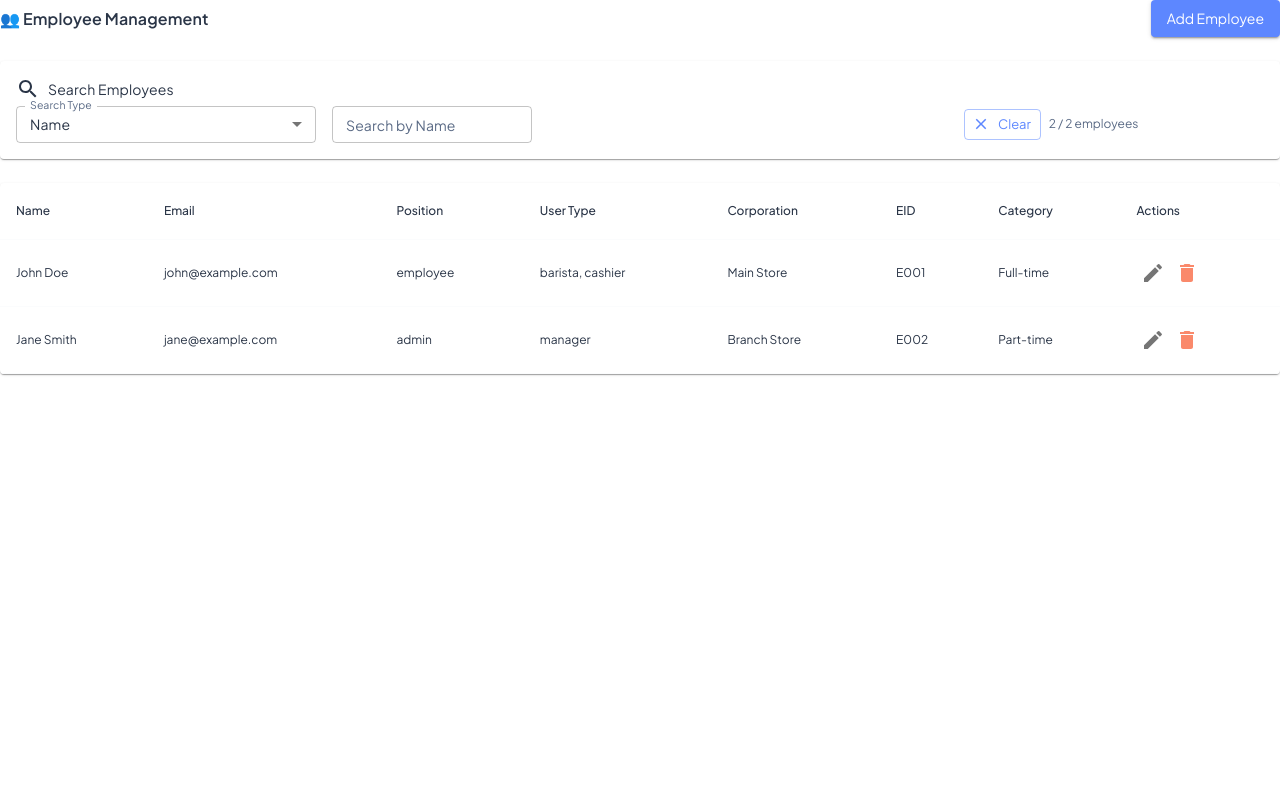
EmployeeManagement › Dialog Operations › opens edit dialog when edit button is clicked
Expected: the text "John Doe" is shown, [0, 240, 148, 306]
# Click edit button for first employee
Click the button with test id "EditIcon" at (1153, 273), box [1136, 256, 1170, 290]
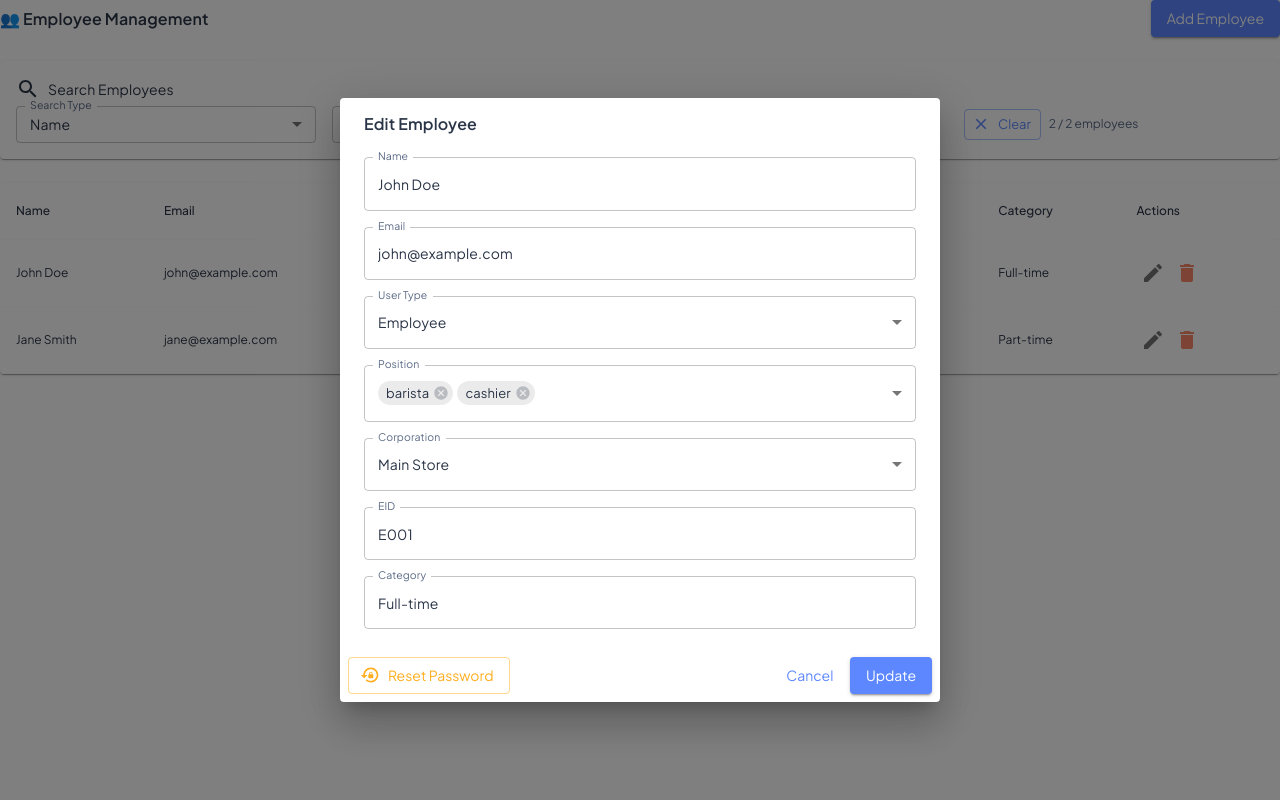
Now the dialog is shown, box [340, 98, 940, 702]
Now the field showing "John Doe" is shown, box [364, 158, 916, 211]
Now the field showing "john@example.com" is shown, box [364, 227, 916, 280]
